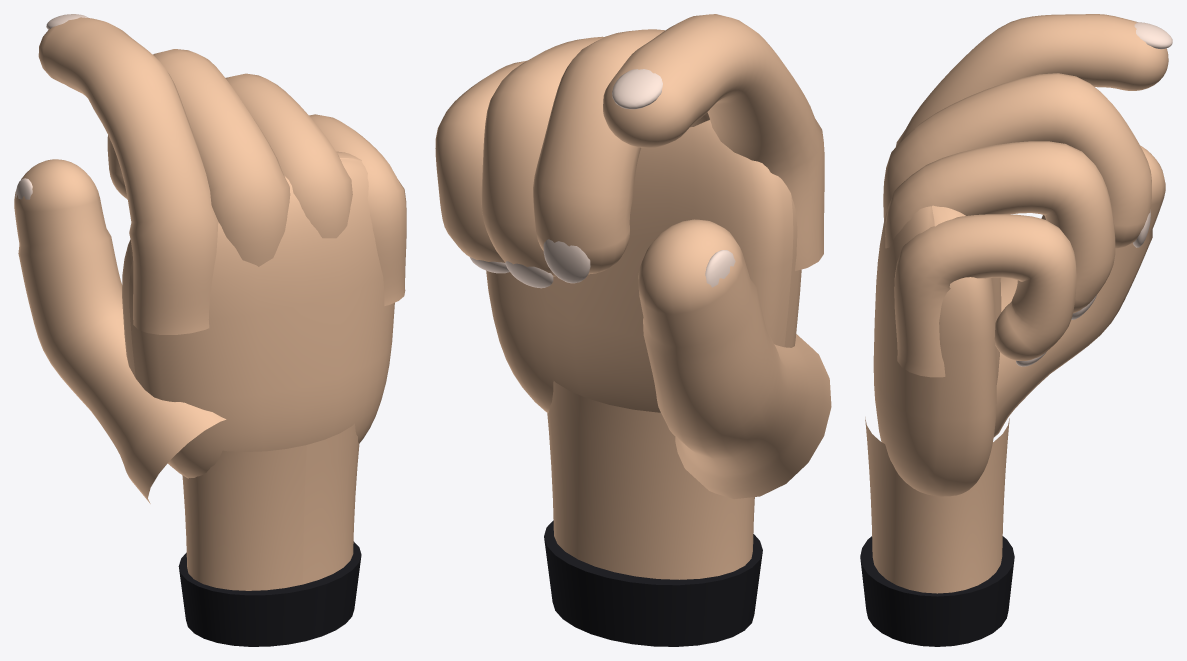
Rendered from hand-right-pinch.glb.
3 renders of one model, left to right at view 1: azimuth 30°, elevation 25°; view 2: azimuth 150°, elevation 25°; view 3: azimuth 270°, elevation 25°, orthographic. The views are drawn at different scales.
Parts seen in each view (by area): view 1: hand-right-pinch; view 2: hand-right-pinch; view 3: hand-right-pinch.
Boxes of the visible parts, x1,y1,x2,y2 form: hand-right-pinch: (14, 14, 406, 646); hand-right-pinch: (435, 14, 831, 646); hand-right-pinch: (860, 14, 1172, 646).
Size of the model in its own units: 0.09 by 0.163 by 0.0846.
